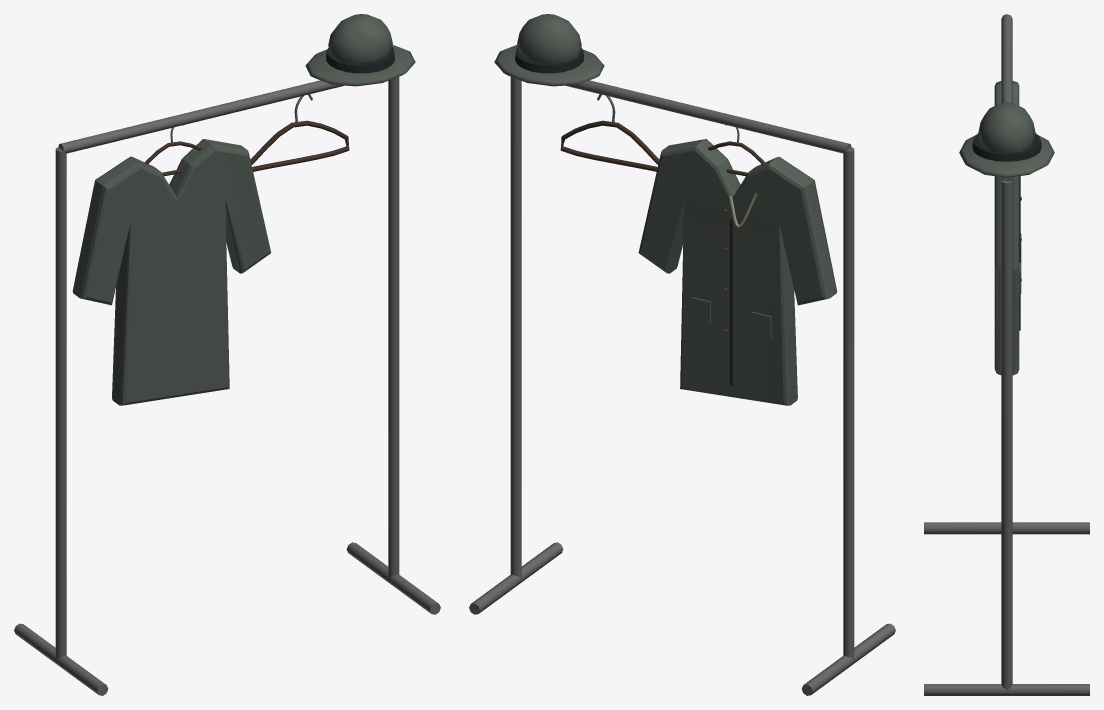
Rendered from prop-clothes-rack-v01.glb.
3 views of the same model, side by side, from view 1: azimuth 30°, elevation 25°; view 2: azimuth 150°, elevation 25°; view 3: azimuth 270°, elevation 25° (orthographic).
Parts seen in each view (by area): view 1: clothes-rack; view 2: clothes-rack; view 3: clothes-rack.
Boxes of the visible parts, box(x1,y1,x2,y2) form: clothes-rack: box(14, 14, 440, 695); clothes-rack: box(469, 14, 895, 695); clothes-rack: box(924, 14, 1089, 695).
Bounding box in the file's own units: 1.28 × 1.99 × 0.52.
